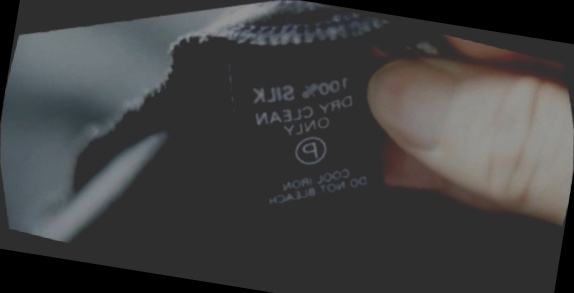dry_clean_any_solvent_except_trichloroethylene: (282, 123, 338, 177)
